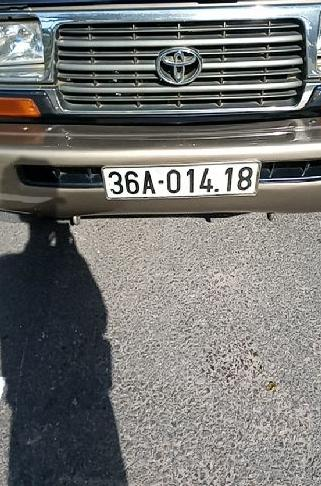Plate-iWeP: (101, 160, 261, 203)
